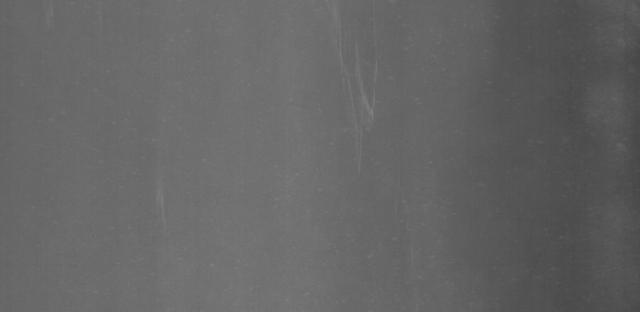silk_spot: (336, 38, 395, 151)
